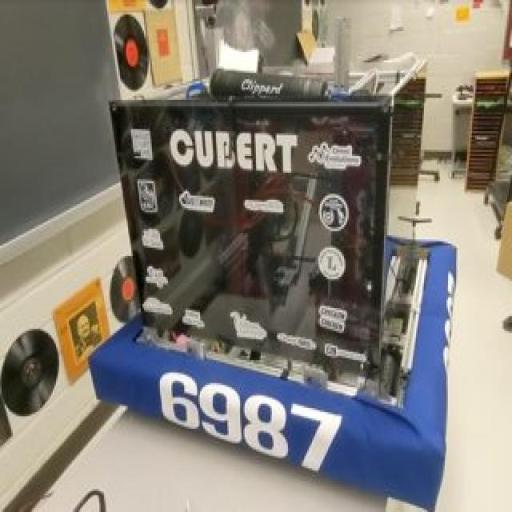robot: (77, 61, 492, 511)
